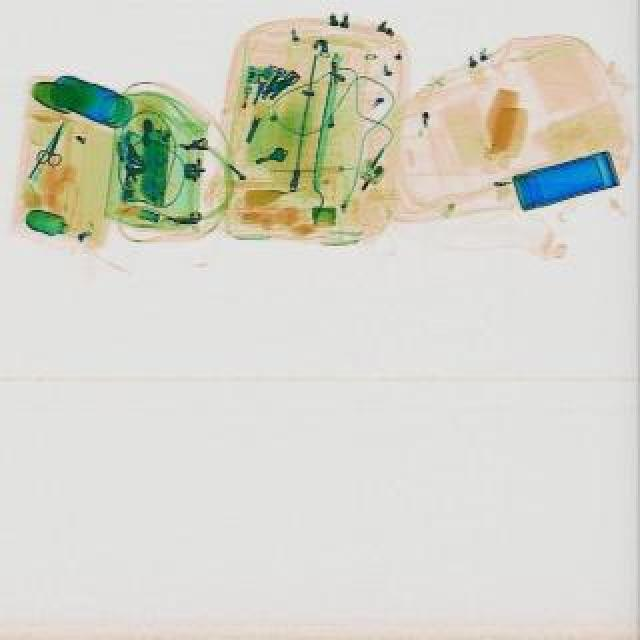pliers: (38, 122, 74, 170)
